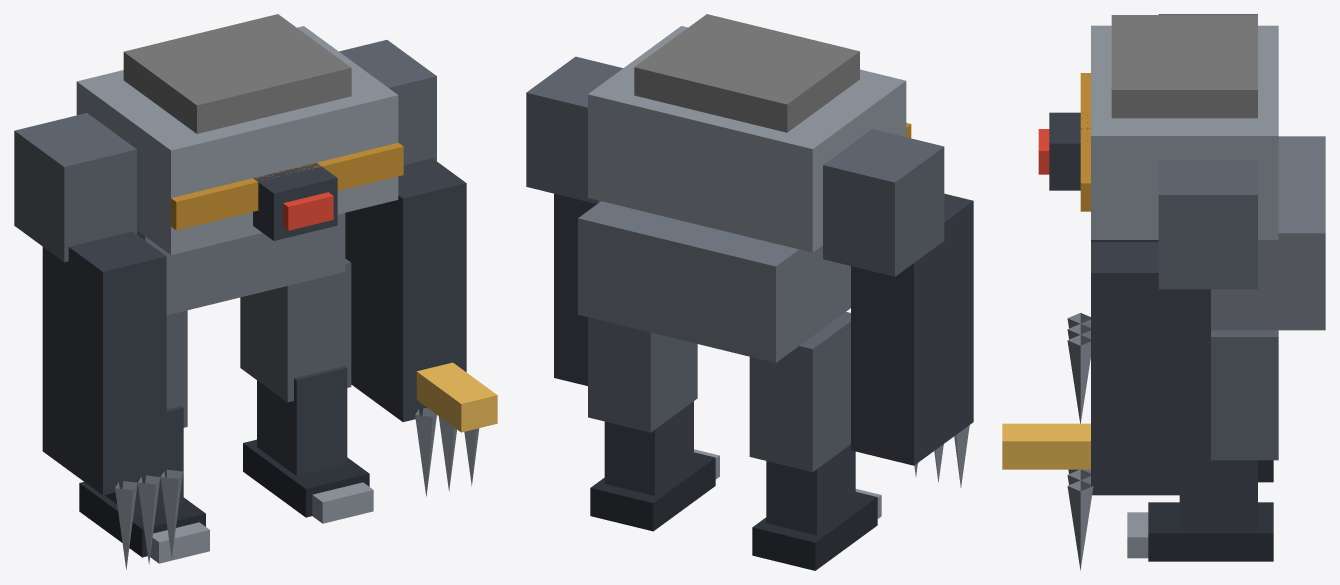
File: wrecker.obj
The picture shows the model from 3 angles, left to right: view 1: azimuth 30°, elevation 25°; view 2: azimuth 150°, elevation 25°; view 3: azimuth 270°, elevation 25°; orthographic projection.
Visible parts, largest first — view 1: wrecker; view 2: wrecker; view 3: wrecker.
Part boxes in pixels (bbox=[...]): wrecker: bbox=[14, 14, 497, 569]; wrecker: bbox=[526, 14, 973, 570]; wrecker: bbox=[1002, 14, 1325, 570].
Size of the model in its own units: 1.67 by 1.92 by 1.24.
